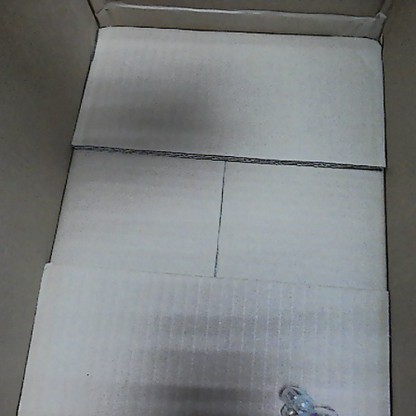whitefish: (271, 378, 343, 414)
